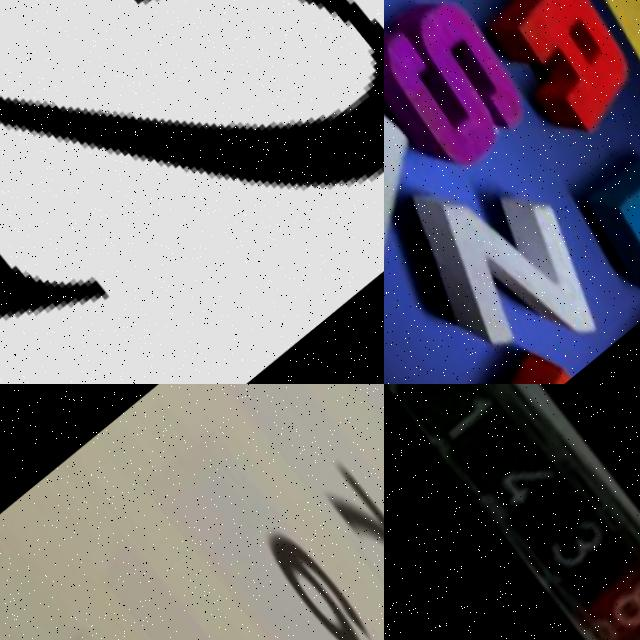1: (435, 384, 503, 446)
2: (0, 0, 384, 384)
3: (541, 503, 616, 575)
4: (492, 445, 565, 515)
6: (246, 507, 384, 640)
7: (308, 453, 384, 598)
8: (604, 565, 640, 634)
A: (478, 0, 640, 142)
D: (558, 129, 640, 317)
H: (384, 0, 469, 326)
S: (384, 0, 551, 196)
Z: (384, 130, 636, 384)
